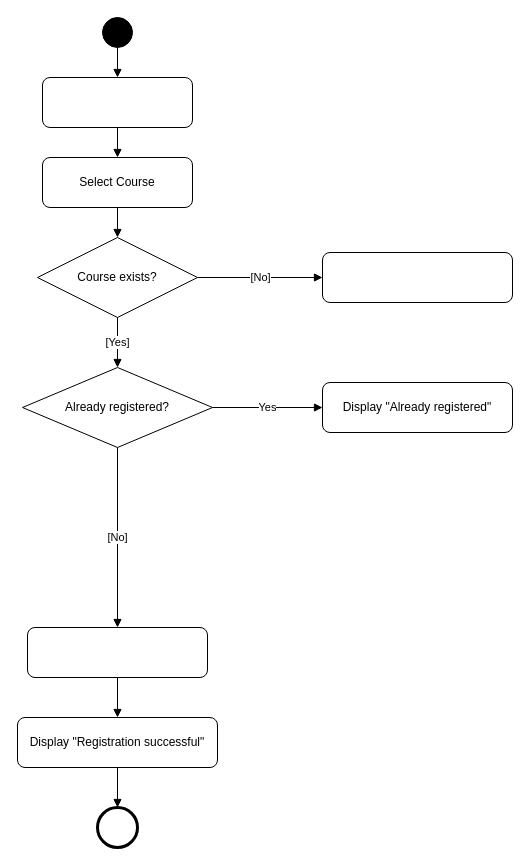
Some shapes in this 530 by 866 pixel diagram are drawn without their labels. Each missing label, with the centre of its shape:
Create CourseRegistration: [117,652]
Display "Course not found": [417,277]
Student: [117,102]
